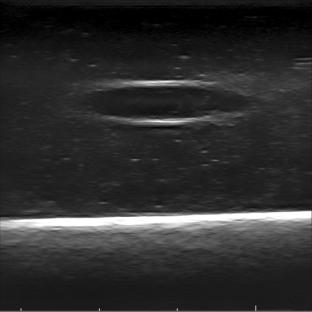vessel: (84, 80, 250, 126)
